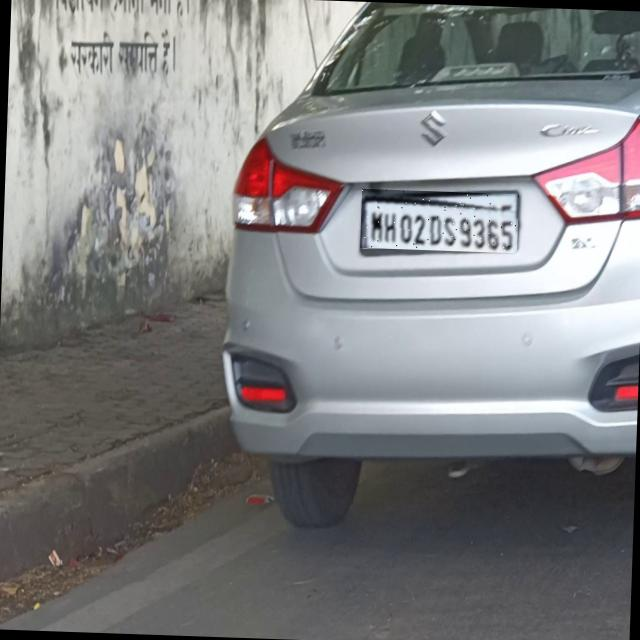Plate: (361, 190, 520, 254)
